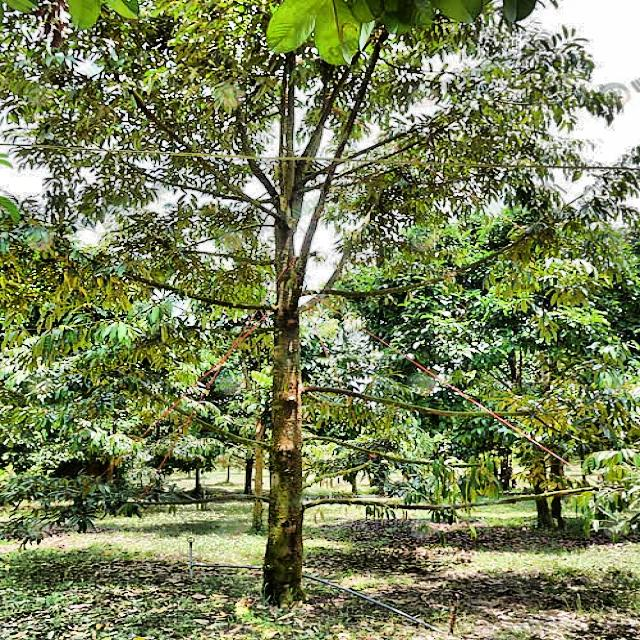arvore: (247, 67, 325, 627), (518, 376, 584, 543)
